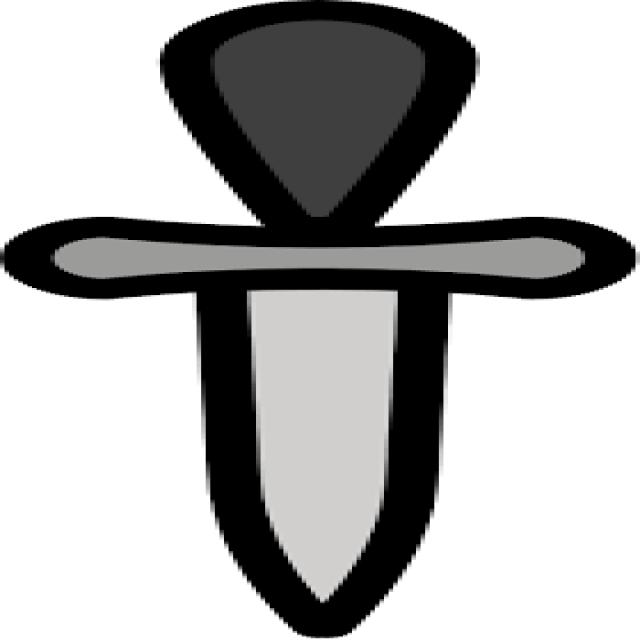Gun: (9, 0, 624, 640)
